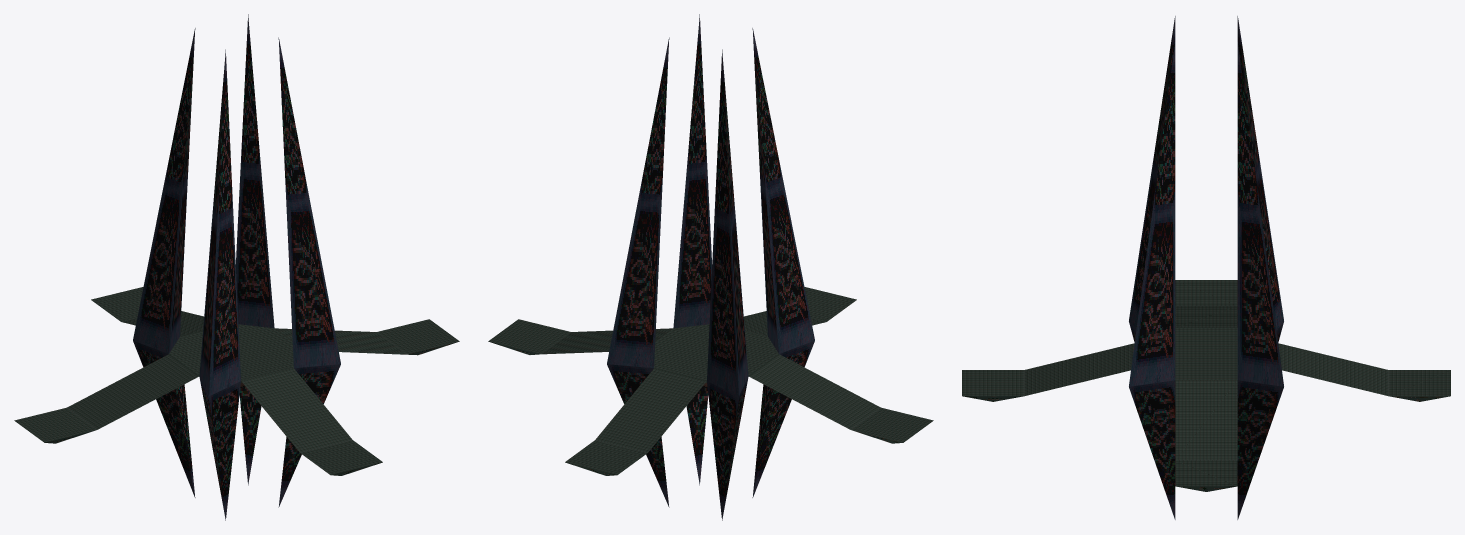
The model's file is space_castle.glb.
3 renders of one model, left to right at view 1: azimuth 30°, elevation 25°; view 2: azimuth 150°, elevation 25°; view 3: azimuth 270°, elevation 25°, orthographic.
Parts seen in each view (by area): view 1: towers-col, platform-col; view 2: towers-col, platform-col; view 3: towers-col, platform-col.
Boxes of the visible parts, x1,y1,x2,y2 form: towers-col: (133,14,340,520); platform-col: (14,287,459,475); towers-col: (607,14,814,520); platform-col: (488,287,933,475); towers-col: (1129,16,1283,519); platform-col: (962,280,1450,491).
Bounding box in the file's own units: 122 × 132 × 122.
Materials: 2 (2 with a texture image).
